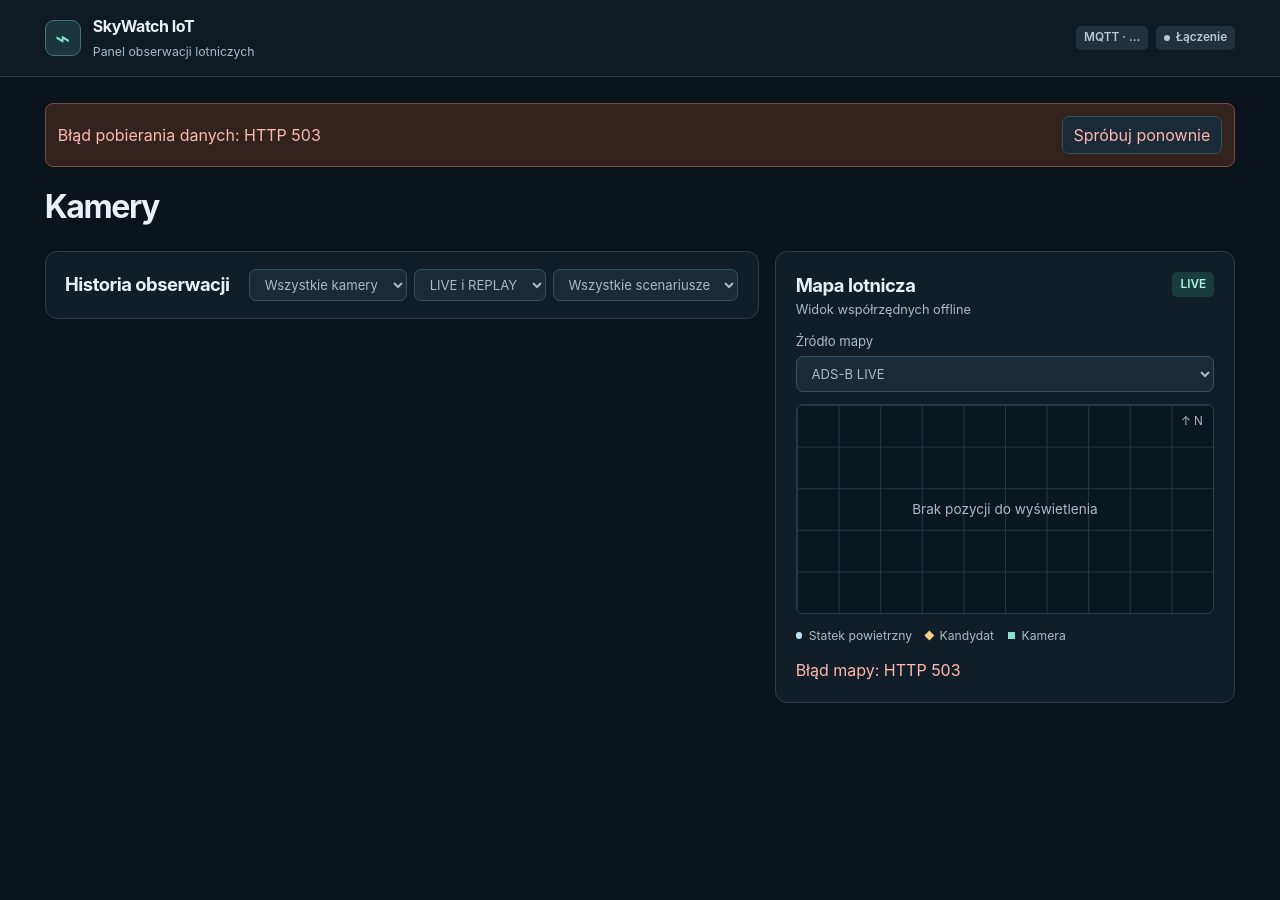
Scenario: dashboard › renders an empty history and exposes an API error with retry
Expected: the text "Błąd pobierania danych: HTTP 503" is shown, [58,123,321,147]
Click the button "Spróbuj ponownie" at (1142, 135), box [1062,116,1222,154]
(page scrolled)
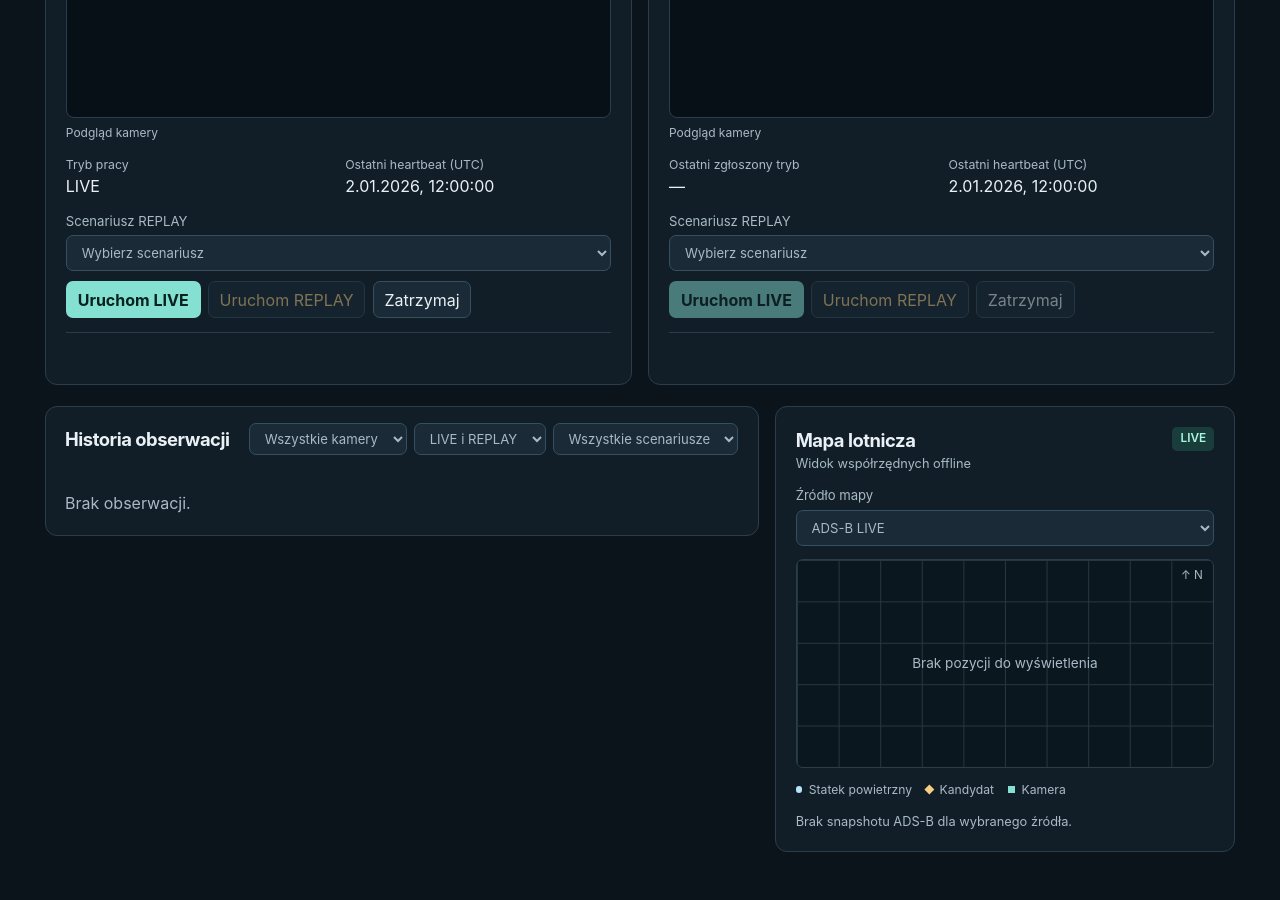
Now the text "Brak obserwacji." is shown, box [65,493,191,513]
